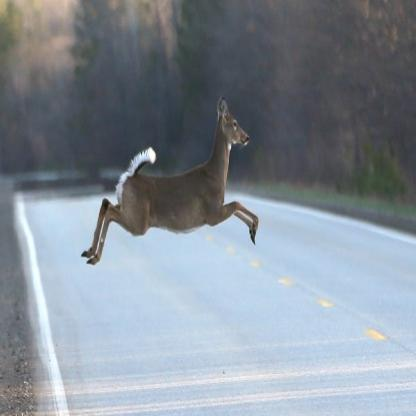Deer: (79, 90, 276, 271)
